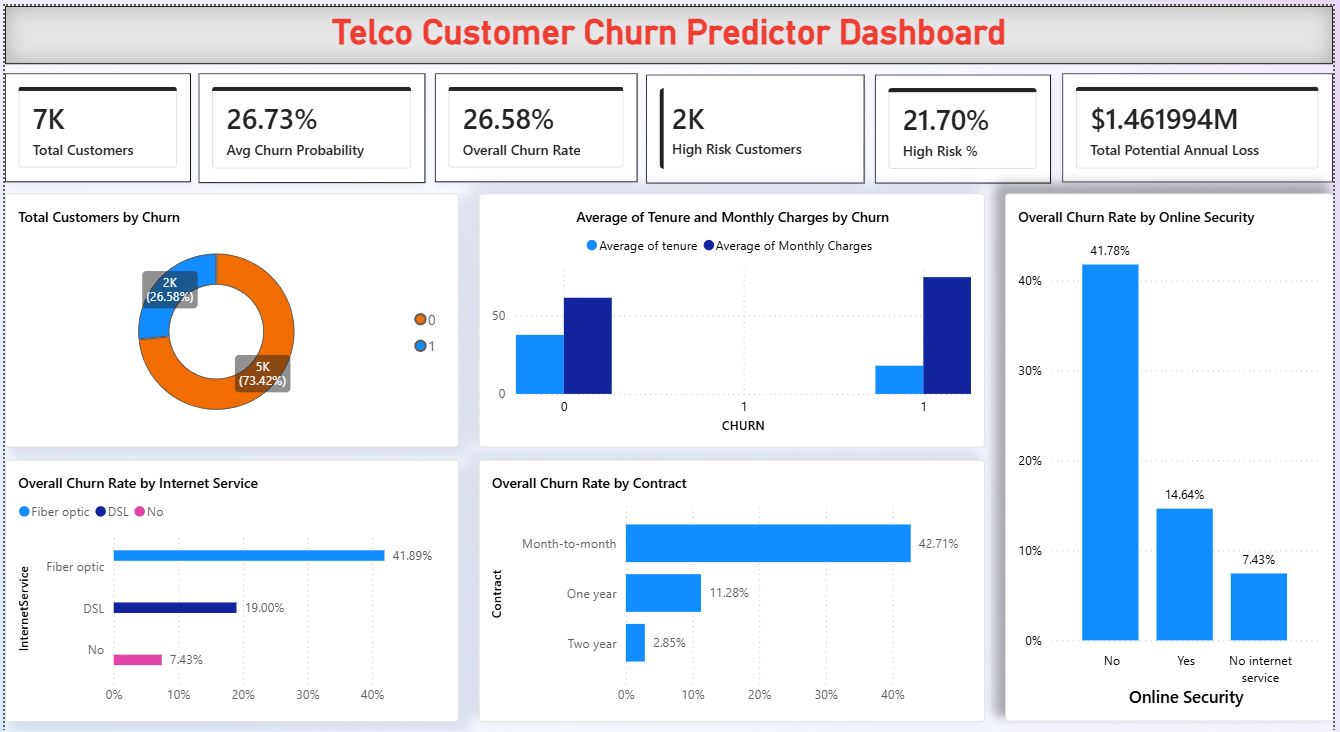

The dashboard page shown, as its layout file describes it:
{"tool":"powerbi","page":{"name":"Executive Overview","canvas":[1280,720],"ordinal":0},"visuals":[{"type":"cardVisual","fields":{"Data":["telco_churn_enriched.Total Customers"]},"box":[0,65.1,179.1,104.7],"z":0},{"type":"cardVisual","fields":{"Data":["telco_churn_enriched.Overall Churn Rate"]},"box":[414.1,64.7,195.3,104.7],"z":1000},{"type":"cardVisual","fields":{"Data":["telco_churn_enriched.High Risk Customers"]},"box":[617.6,65.9,210.6,104.7],"z":2000},{"type":"cardVisual","fields":{"Data":["telco_churn_enriched.High Risk %"]},"box":[838.8,65.9,169.4,104.7],"z":3000},{"type":"cardVisual","fields":{"Data":["telco_churn_enriched.Avg Churn Probability"]},"box":[187.2,65.1,218.6,105.8],"z":4000},{"type":"cardVisual","fields":{"Data":["telco_churn_enriched.Total Potential Annual Loss"]},"box":[1019.8,64.8,260.5,105.2],"z":5000},{"type":"donutChart","fields":{"Category":["telco_churn_enriched.Churn"],"Y":["telco_churn_enriched.Total Customers"]},"box":[0,181,437.8,244.6],"z":6000},{"type":"clusteredBarChart","fields":{"Category":["telco_churn_enriched.Contract"],"Y":["telco_churn_enriched.Overall Churn Rate"]},"box":[456.1,437.8,487.9,253.1],"z":7000},{"type":"clusteredBarChart","title":"Overall Churn Rate by Internet Service","fields":{"Category":["telco_churn_enriched.InternetService"],"Series":["telco_churn_enriched.InternetService"],"Y":["telco_churn_enriched.Overall Churn Rate"]},"box":[0,437.8,437.8,253.1],"z":8000},{"type":"clusteredColumnChart","title":"Average of Tenure and Monthly Charges by Churn","fields":{"Y":["Avg(telco_churn_enriched.tenure)","Avg(telco_churn_enriched.MonthlyCharges)"],"Category":["telco_churn_enriched.Churn"]},"box":[456.1,181,487.9,244.6],"z":9000},{"type":"textbox","box":[0,0,1280.3,56.3],"z":14001},{"type":"clusteredColumnChart","fields":{"Y":["telco_churn_enriched.Overall Churn Rate"],"Category":["telco_churn_enriched.OnlineSecurity"]},"box":[963.6,181,316.7,508.7],"z":14002}]}

Visuals, with their boxes in screenshot pixels (x1, y1, x2, y2), scaled from the page's 1280x720 canvas onto the 1340x732 screenshot:
cardVisual - telco_churn_enriched.Total Customers: 0, 66, 187, 173
cardVisual - telco_churn_enriched.Overall Churn Rate: 434, 66, 638, 172
cardVisual - telco_churn_enriched.High Risk Customers: 647, 67, 867, 173
cardVisual - telco_churn_enriched.High Risk %: 878, 67, 1055, 173
cardVisual - telco_churn_enriched.Avg Churn Probability: 196, 66, 425, 174
cardVisual - telco_churn_enriched.Total Potential Annual Loss: 1068, 66, 1339, 173
donutChart - telco_churn_enriched.Churn x telco_churn_enriched.Total Customers: 0, 184, 458, 433
clusteredBarChart - telco_churn_enriched.Contract x telco_churn_enriched.Overall Churn Rate: 477, 445, 988, 702
"Overall Churn Rate by Internet Service" clusteredBarChart: 0, 445, 458, 702
"Average of Tenure and Monthly Charges by Churn" clusteredColumnChart: 477, 184, 988, 433
textbox: 0, 0, 1339, 57
clusteredColumnChart - telco_churn_enriched.Overall Churn Rate x telco_churn_enriched.OnlineSecurity: 1009, 184, 1339, 701
